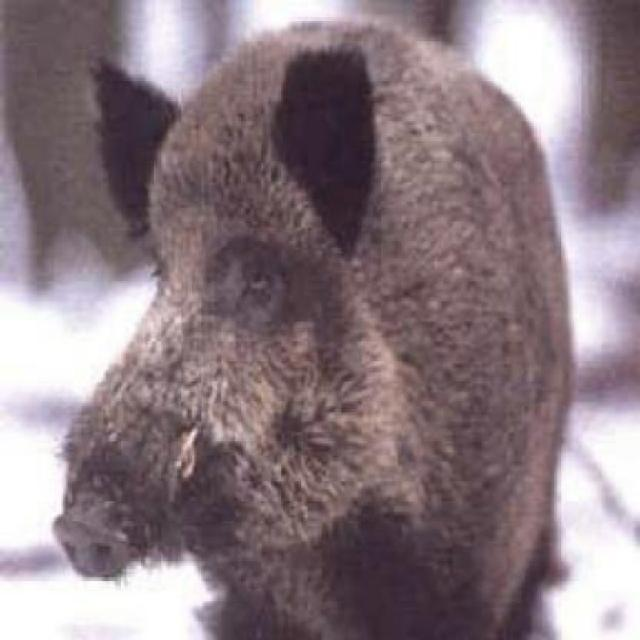Boar: (46, 1, 601, 640)
